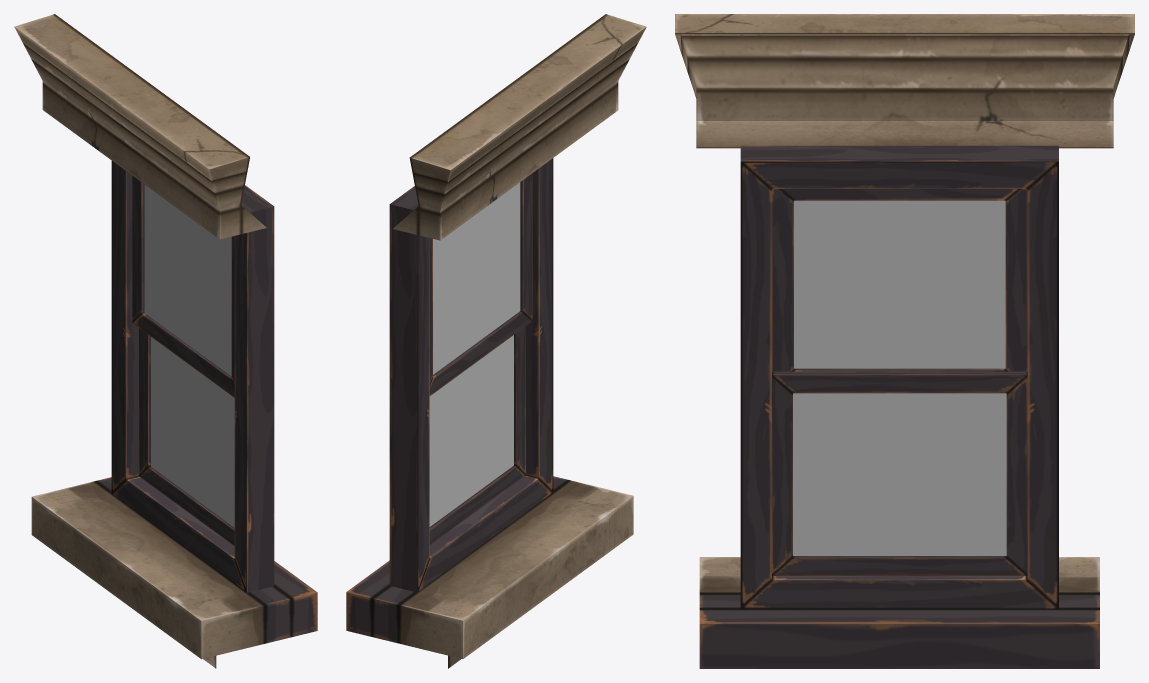
File: window06.FBX
The picture shows the model from 3 angles, left to right: view 1: azimuth 30°, elevation 25°; view 2: azimuth 150°, elevation 25°; view 3: azimuth 270°, elevation 25°; orthographic projection. The views are drawn at different scales.
Parts seen in each view (by area): view 1: window06_frame, window06_glass01, window06_glass02, window06_slide; view 2: window06_frame, window06_glass01, window06_glass02, window06_slide; view 3: window06_frame, window06_glass01, window06_glass02, window06_slide.
Boxes of the visible parts, bbox=[...] form: window06_frame: bbox=[14, 14, 317, 668]; window06_glass01: bbox=[144, 185, 231, 376]; window06_glass02: bbox=[151, 337, 234, 527]; window06_slide: bbox=[139, 328, 234, 545]; window06_frame: bbox=[346, 14, 646, 668]; window06_glass01: bbox=[433, 182, 520, 374]; window06_glass02: bbox=[429, 335, 513, 526]; window06_slide: bbox=[429, 326, 525, 545]; window06_frame: bbox=[675, 14, 1134, 668]; window06_glass01: bbox=[794, 200, 1005, 368]; window06_glass02: bbox=[793, 393, 1006, 555]; window06_slide: bbox=[772, 371, 1027, 575].
Bounding box in the file's own units: 45.69 × 197 × 130.
